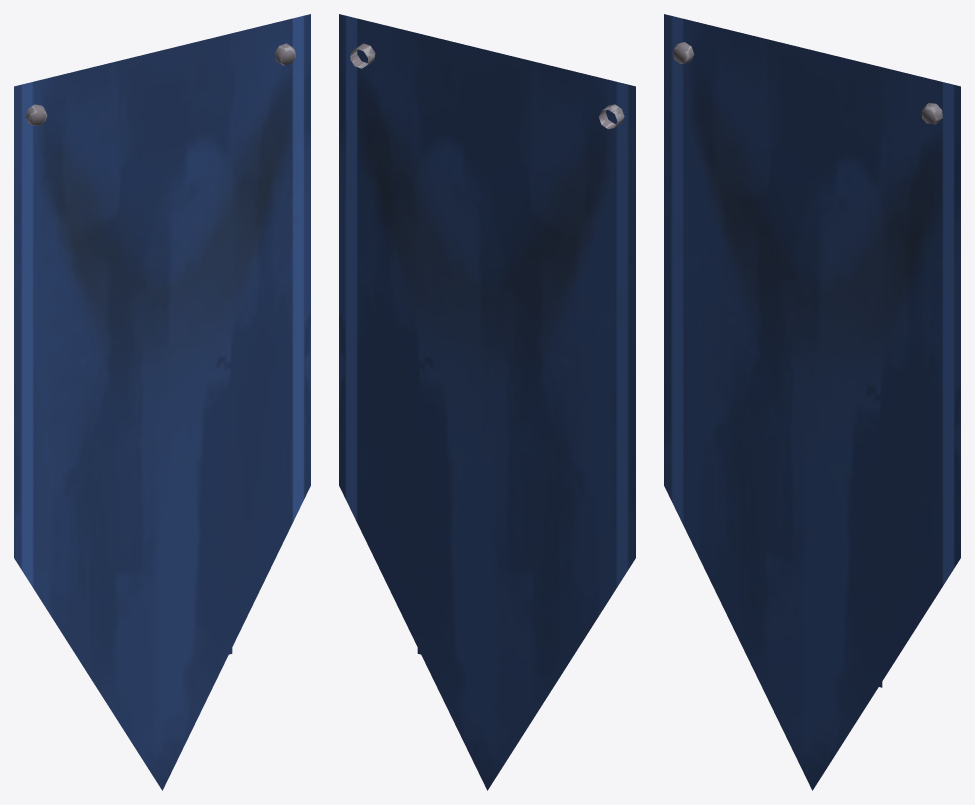
The model's file is Banner_2_Cloth.gltf.
The picture shows the model from 3 angles, left to right: view 1: azimuth 30°, elevation 25°; view 2: azimuth 150°, elevation 25°; view 3: azimuth 330°, elevation 25°; orthographic projection.
Parts seen in each view (by area): view 1: Banner_2_Cloth; view 2: Banner_2_Cloth; view 3: Banner_2_Cloth.
Boxes of the visible parts, x1,y1,x2,y2 form: Banner_2_Cloth: [14, 14, 310, 790]; Banner_2_Cloth: [339, 14, 635, 790]; Banner_2_Cloth: [664, 14, 960, 790].
Size of the model in its own units: 0.8101 by 1.93 by 0.0568.
2 materials, 2 textured.
